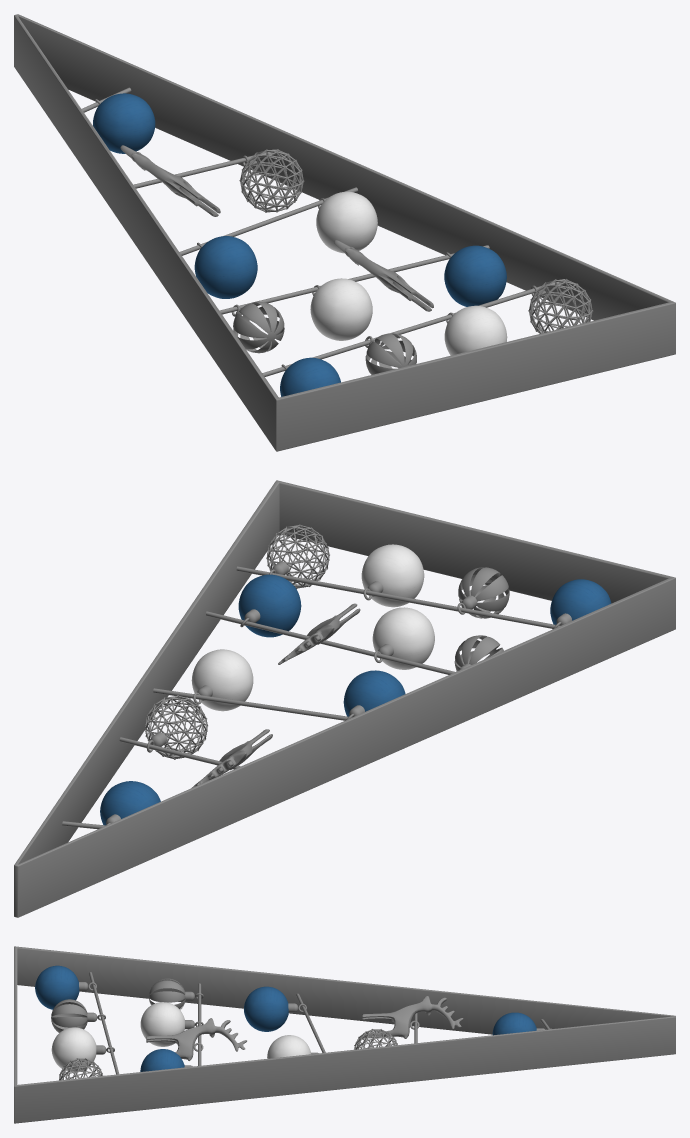
The model's file is walldeco_christmastree.gltf.
3 views of the same model, one above another, from view 1: azimuth 30°, elevation 25°; view 2: azimuth 150°, elevation 25°; view 3: azimuth 270°, elevation 25° (orthographic). The views are drawn at different scales.
Visible parts, largest first — view 1: chrestmastree wall deco; view 2: chrestmastree wall deco; view 3: chrestmastree wall deco.
Part boxes in pixels (x1,y1,x2,y2): chrestmastree wall deco: [14, 14, 675, 451]; chrestmastree wall deco: [14, 480, 675, 917]; chrestmastree wall deco: [14, 946, 675, 1123].
Bounding box in the file's own units: 0.5014 × 0.0704 × 1.
1 material, 1 textured.
